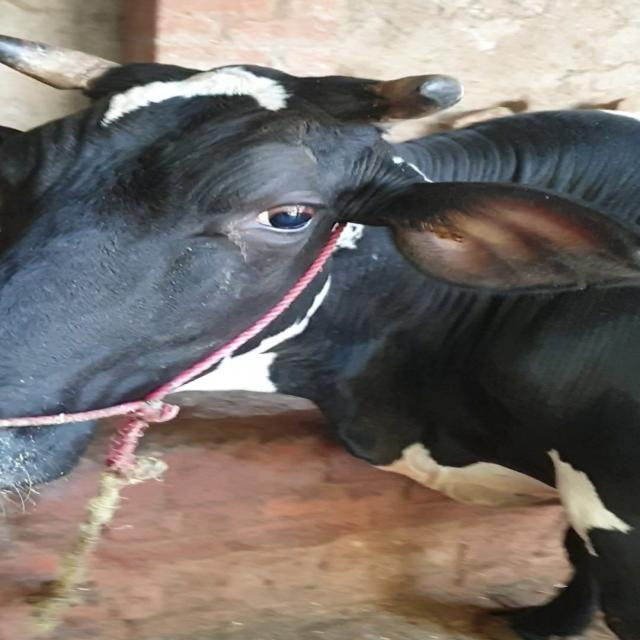cowFace: (0, 70, 394, 487)
